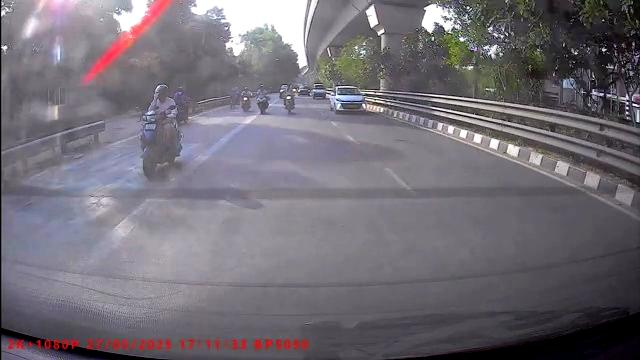motorcycle_with_helmet: (137, 81, 184, 181)
